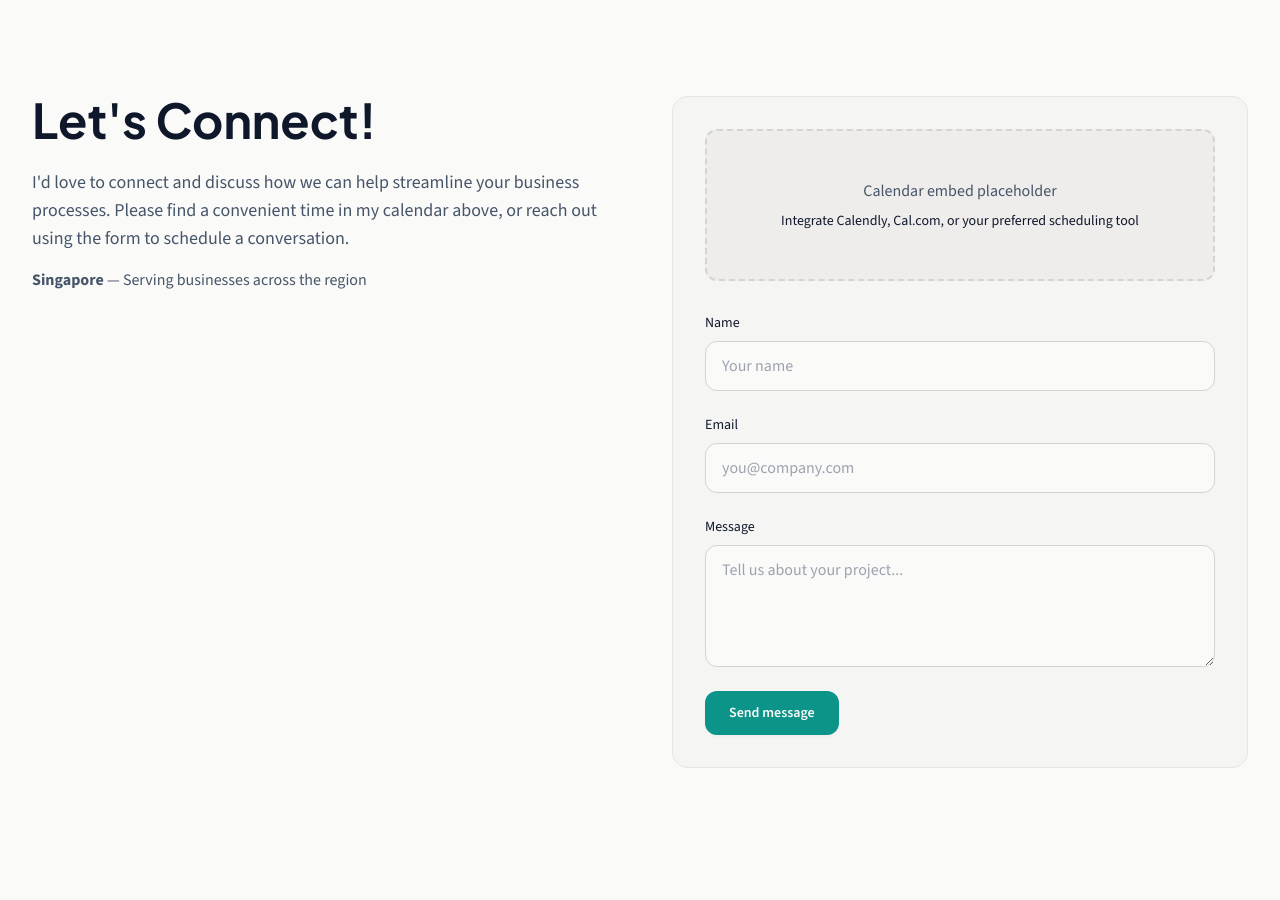
Test: ContactPage › shows error message when submit fails
Step 1. Type "Jane Doe" into the field labelled "Name" → (960, 366), box [705, 341, 1215, 391]
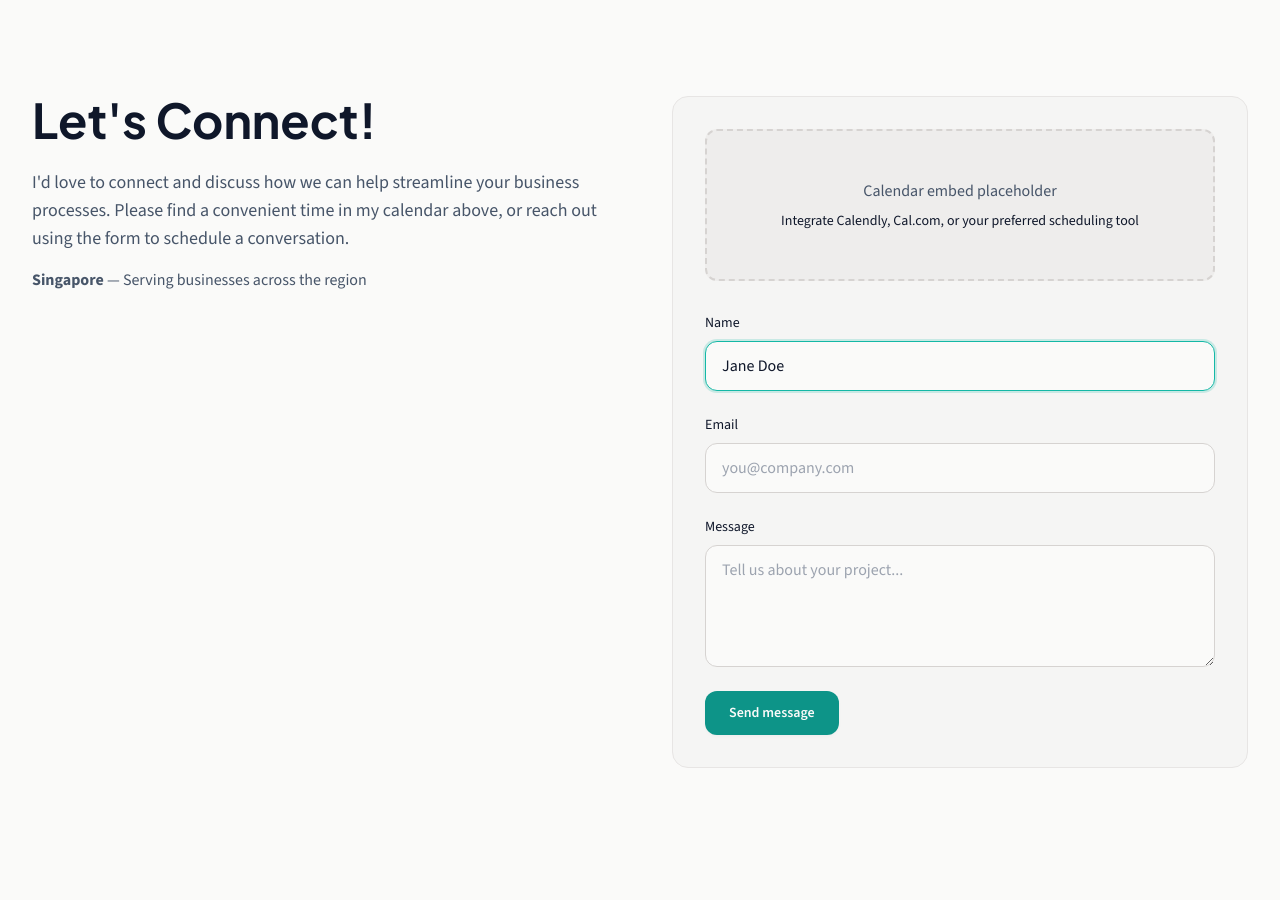
Step 2. Type "jane@example.com" into the field labelled "Email" → (960, 468), box [705, 443, 1215, 493]
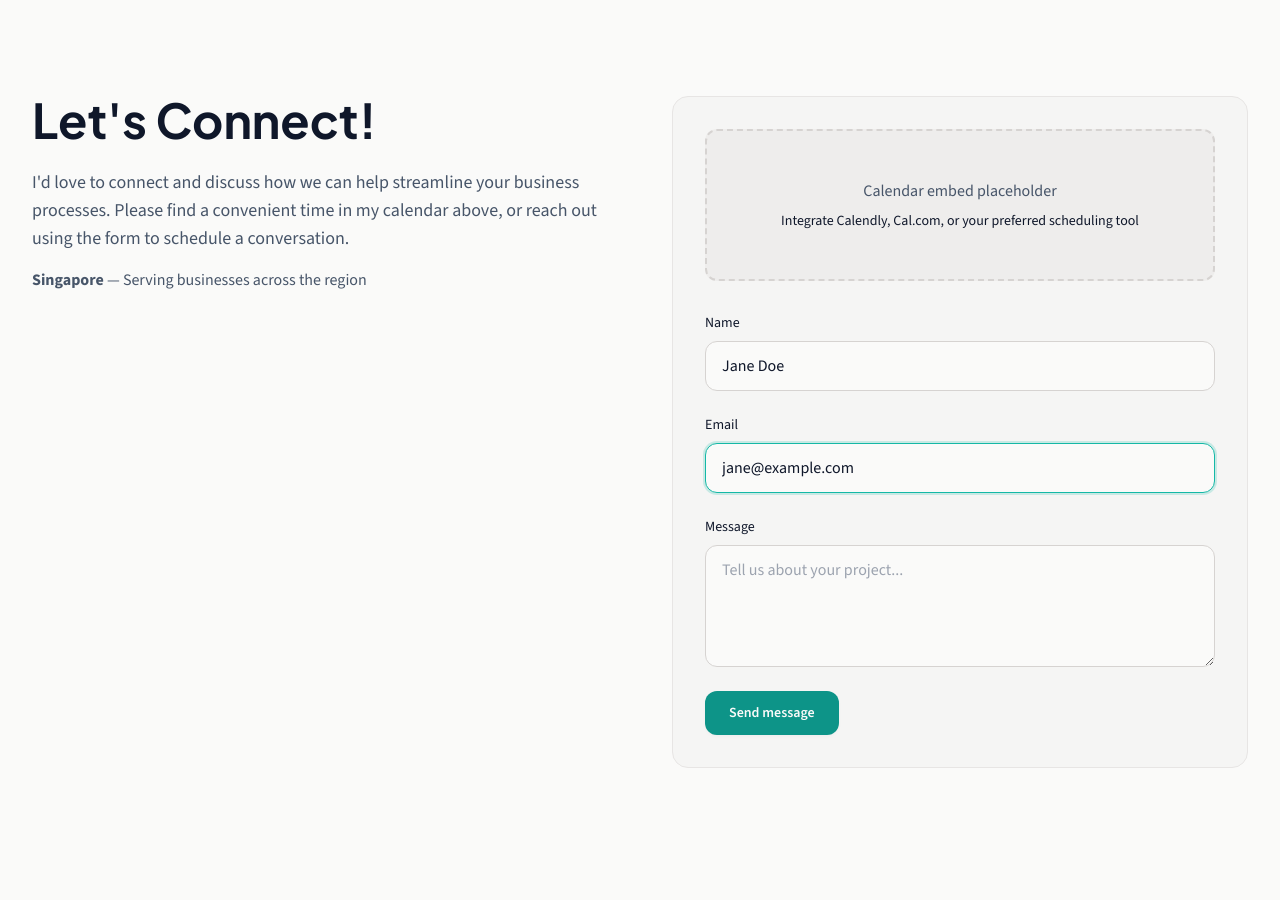
Step 3. Type "Message" into the text box labelled "Message" → (960, 606), box [705, 545, 1215, 667]
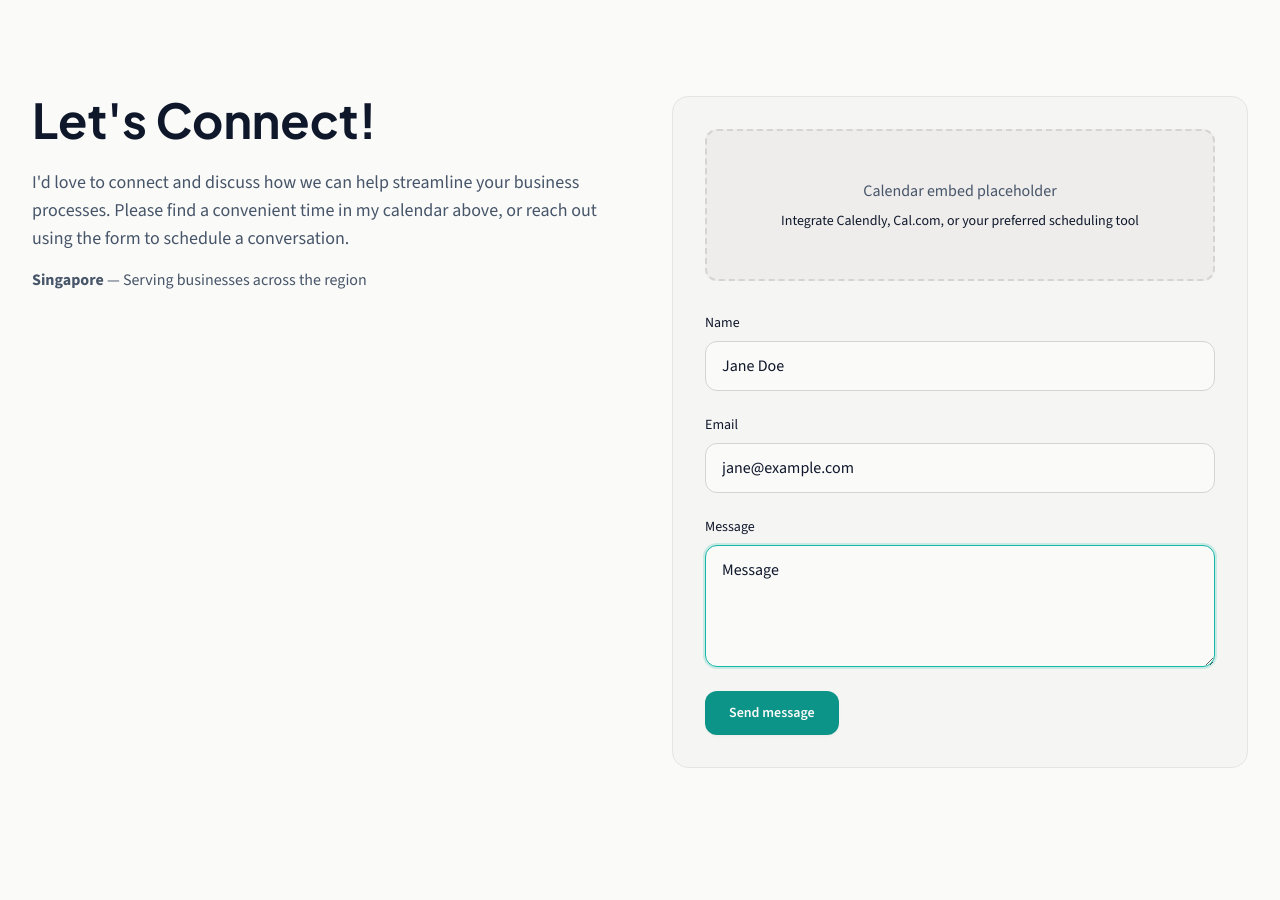
Step 4. Click the button "Send message" → (772, 713), box [705, 691, 839, 735]
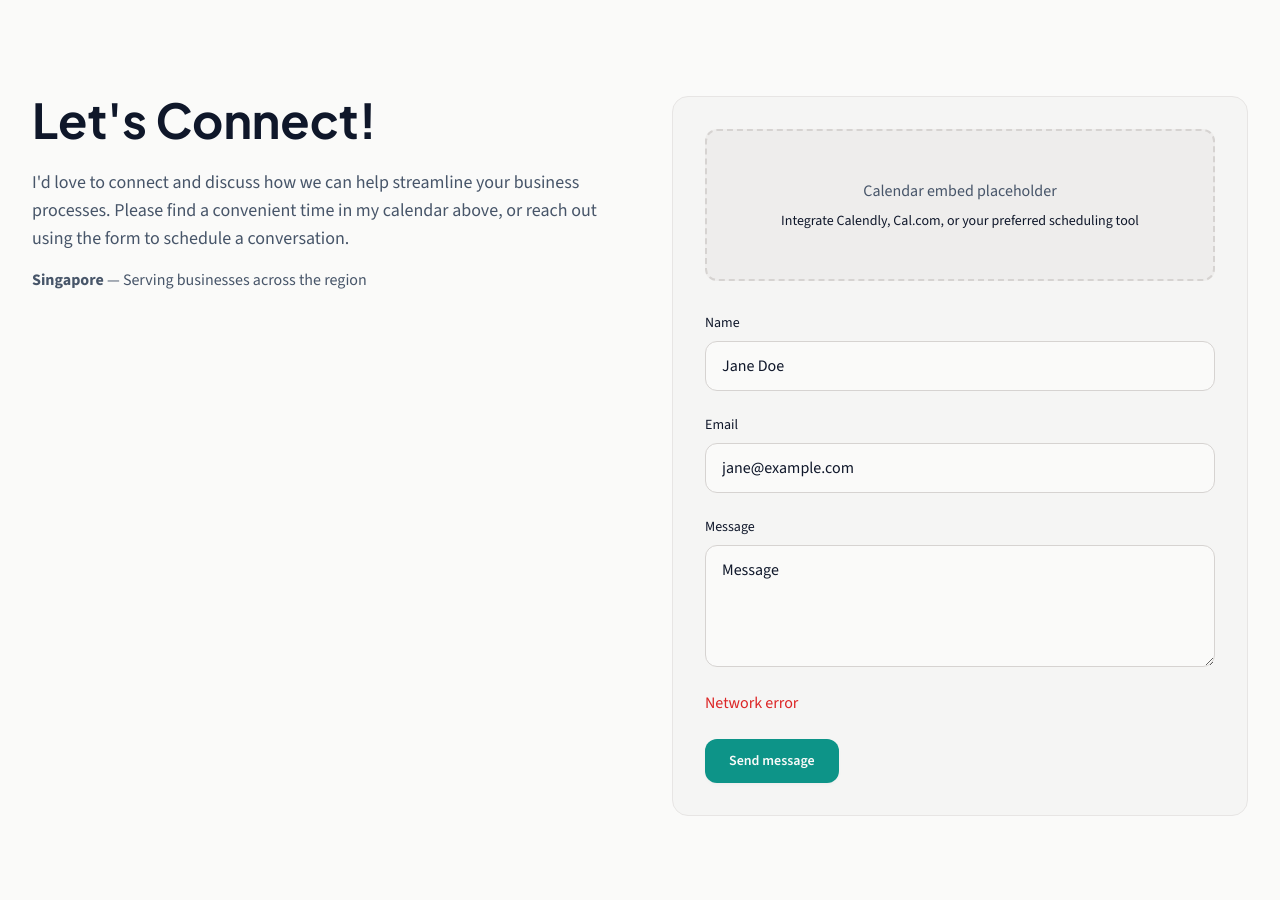
Result: the text "Network error" is shown at [705, 692, 798, 713]
